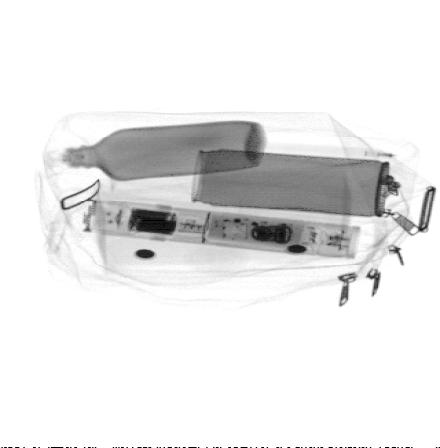Baton: (81, 198, 364, 261)
